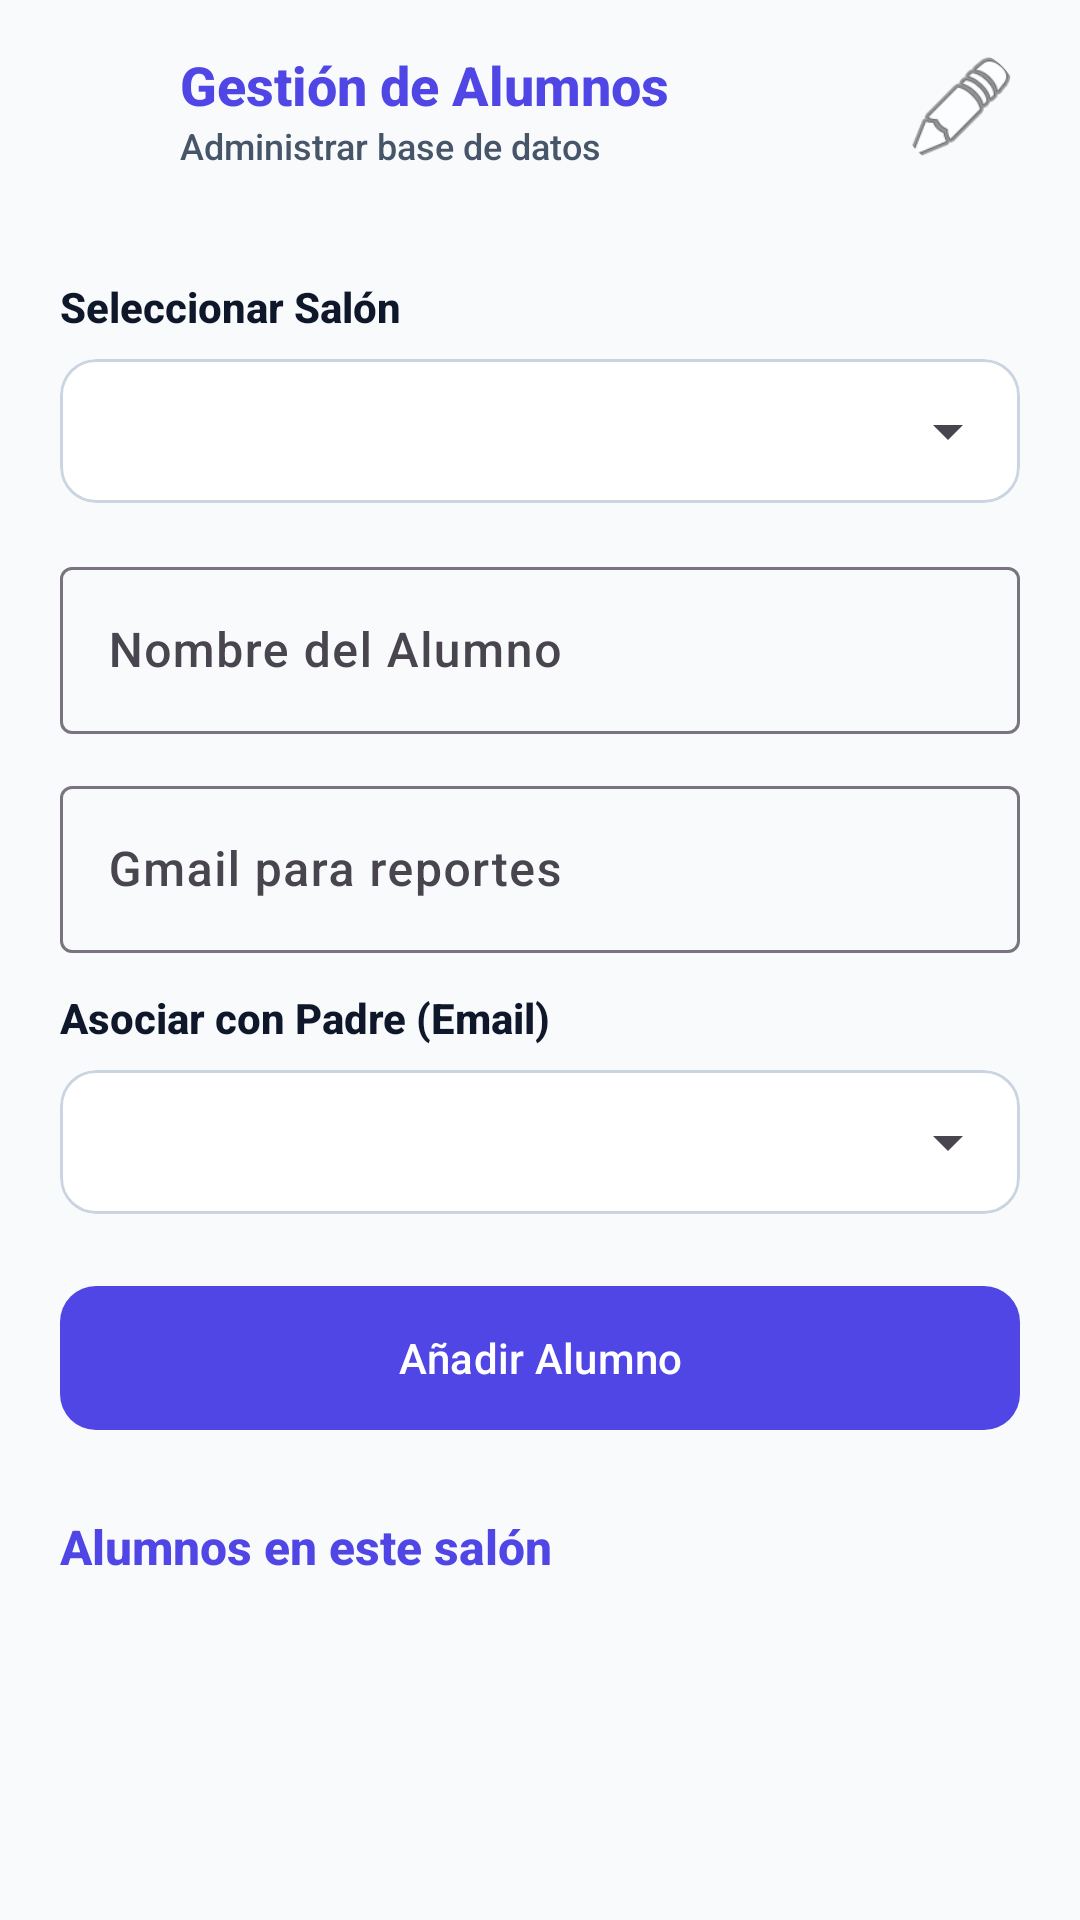

Icons on this 1080px×1920px Android screen, each with the point to tap as [x,y]:
edit: [961,106]
